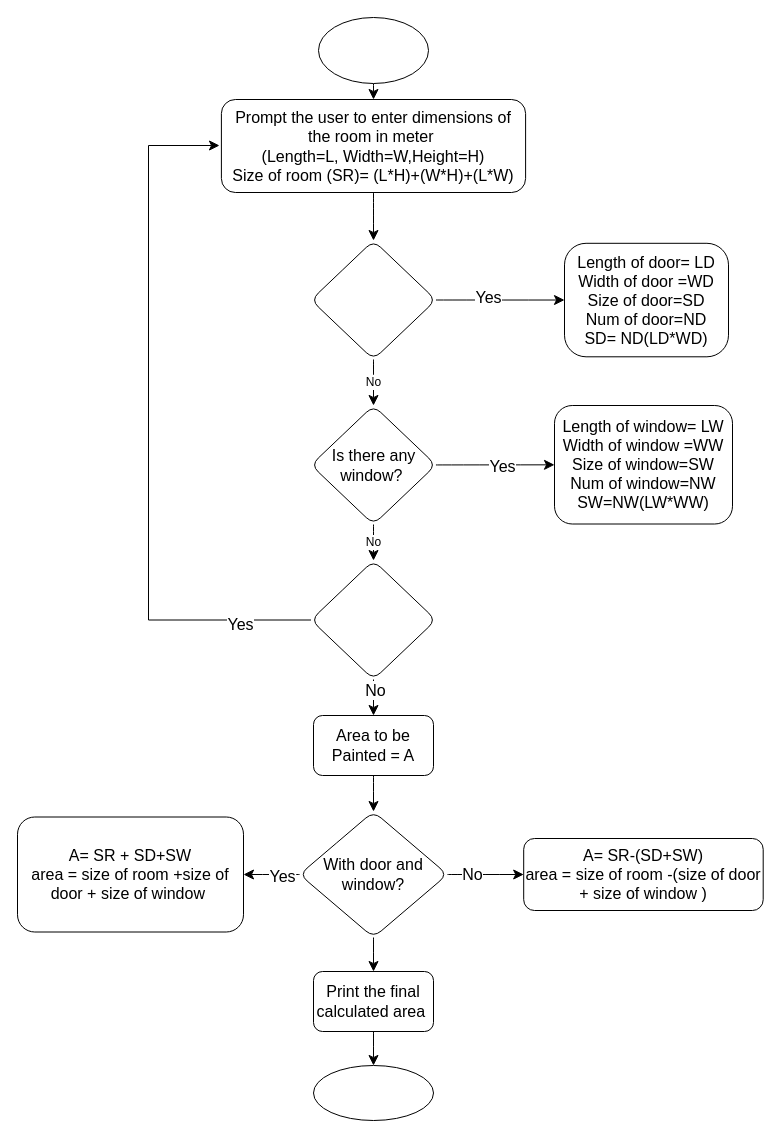
This 781x1138 diagram has some shape labels left out. Each missing label, with the centre of its shape:
"End" belongs at (373,1092).
"Is there any door?" belongs at (373,300).
"Is there any more rooms?" belongs at (373,620).
"Start" belongs at (373,50).
